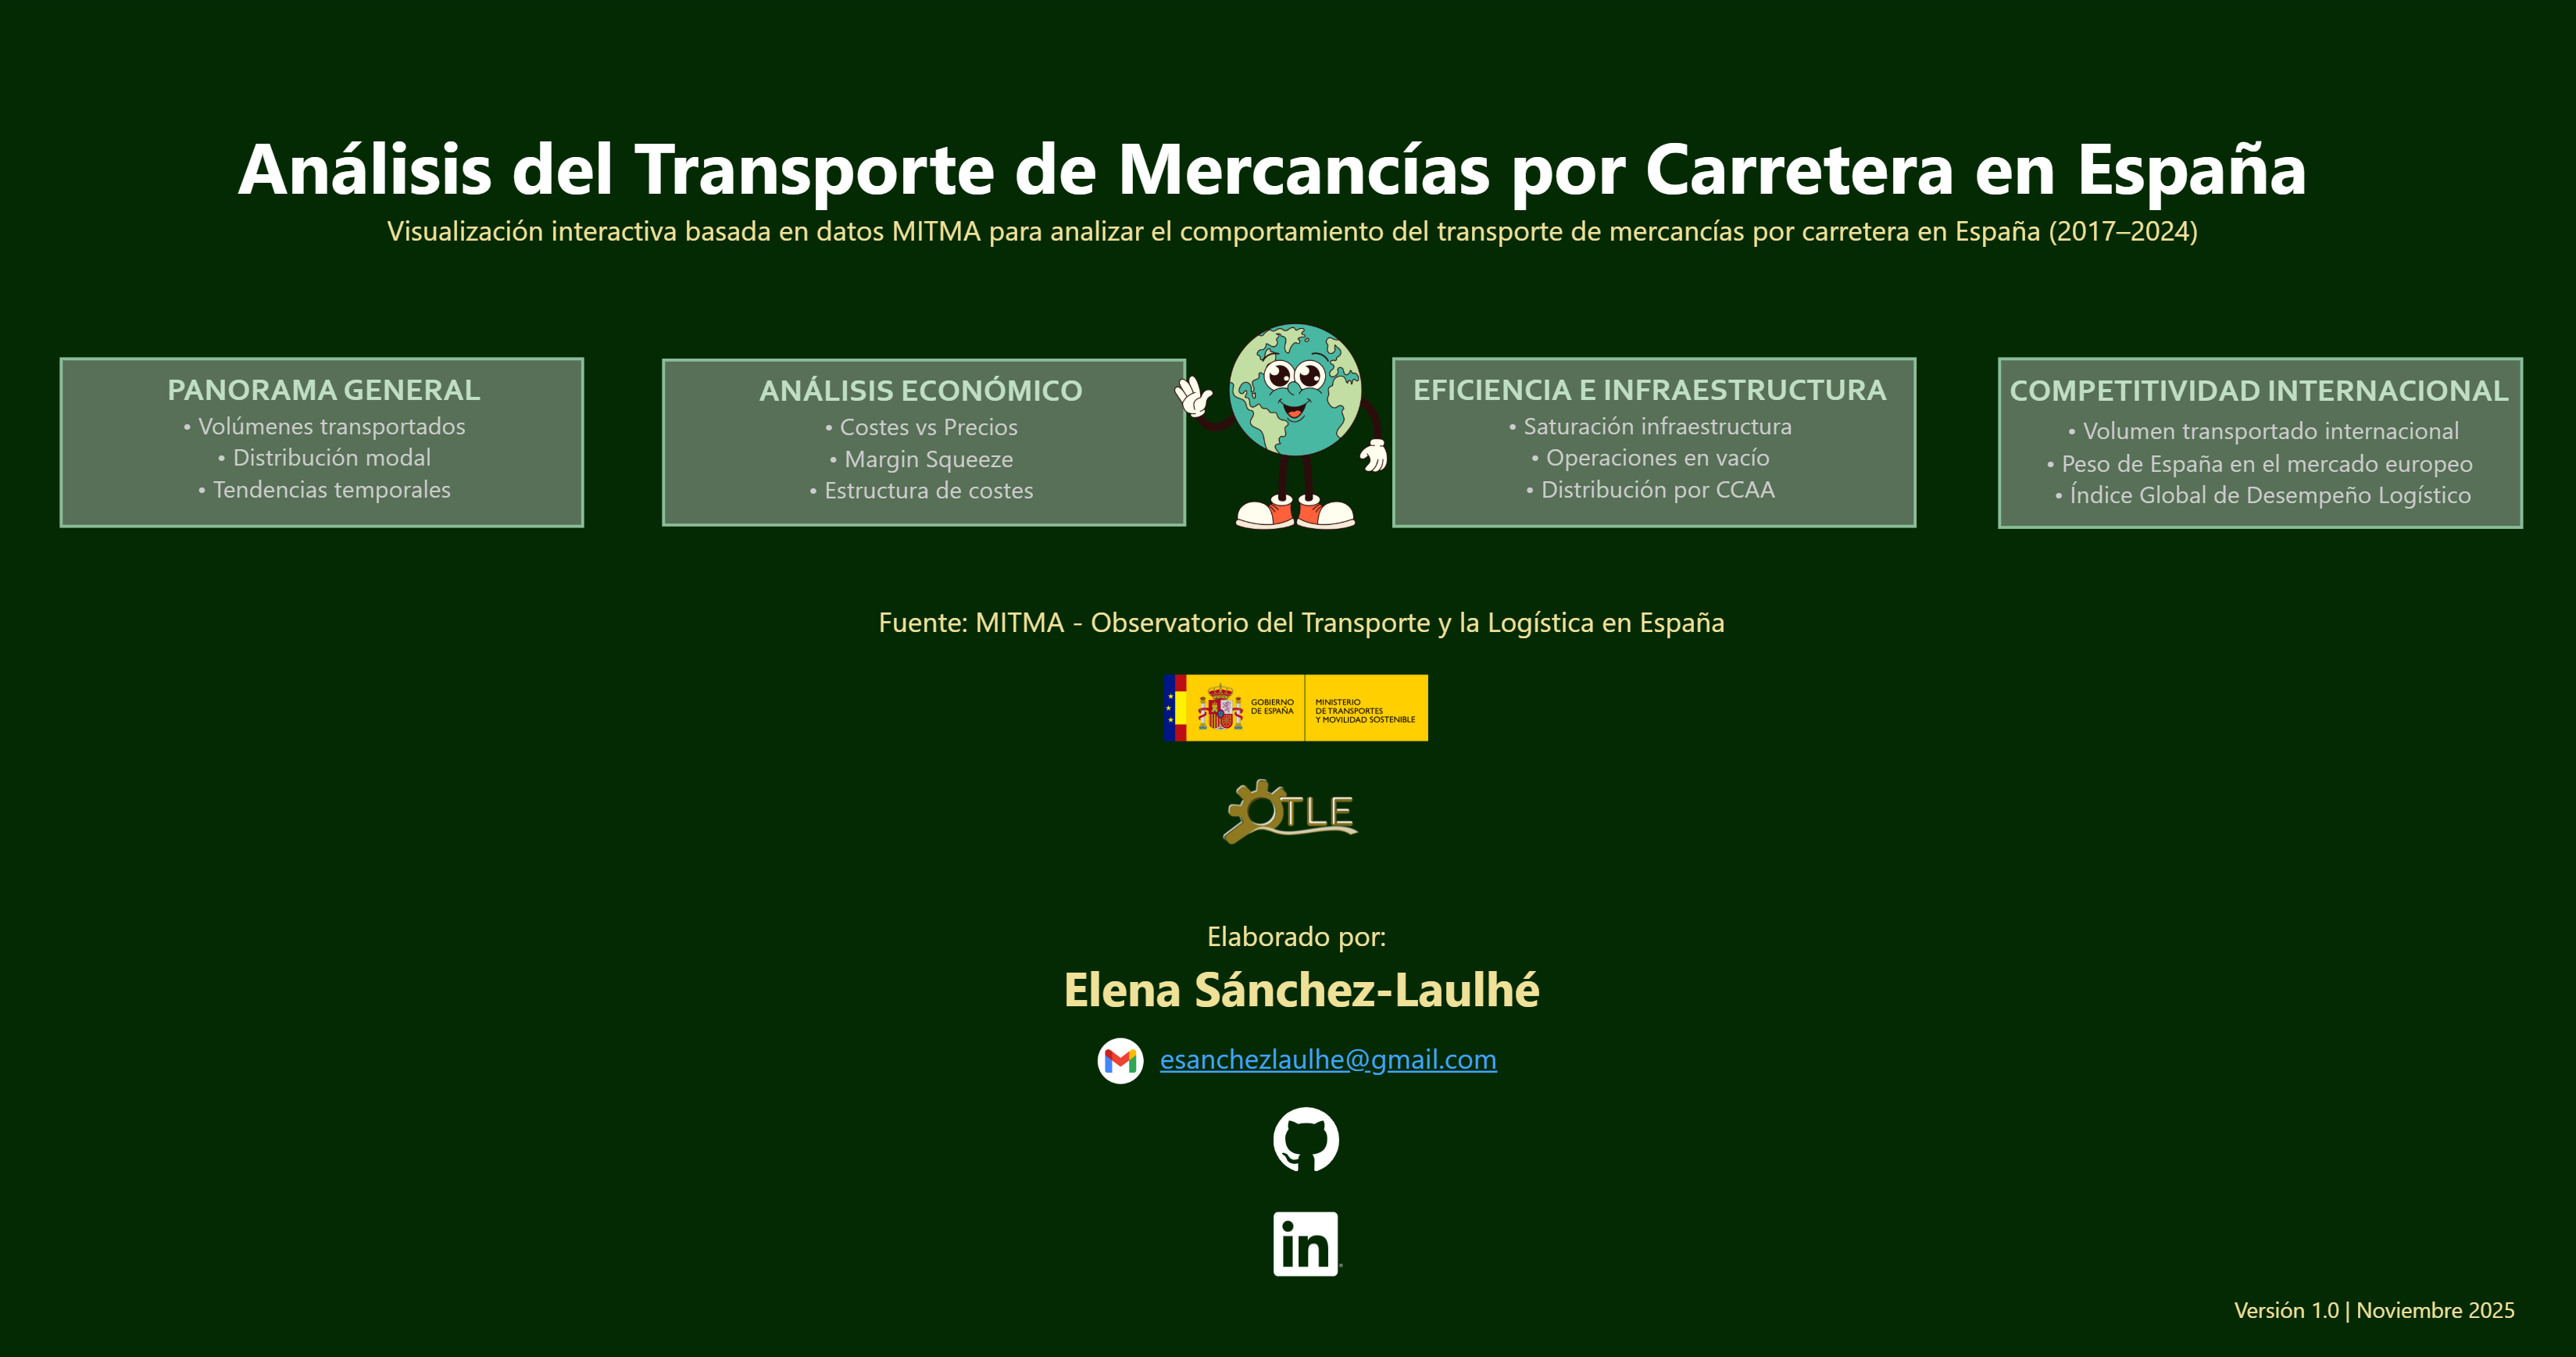

The dashboard page shown, as its layout file describes it:
{"tool":"powerbi","page":{"name":"Portada","canvas":[1747,920],"ordinal":0},"visuals":[{"type":"textbox","box":[45,245.7,353.8,115.2],"z":0,"group":"g3"},{"type":"textbox","box":[939.8,245.9,354.6,115.2],"z":0,"group":"g5"},{"type":"textbox","box":[1348.6,246.8,360.9,115],"z":0,"group":"g6"},{"type":"textbox","box":[448.1,247.2,354.5,113.6],"z":0,"group":"g4"},{"type":"image","box":[782.6,431.3,190.9,97.1],"z":0,"group":"g2"},{"type":"textbox","box":[701.9,609.3,360,87],"z":0},{"type":"image","box":[728.8,696.3,61.7,42.7],"z":0,"group":"g1"},{"type":"shape","box":[43.5,242.9,354.1,115],"z":1000,"group":"g3"},{"type":"shape","box":[943.2,242.9,354,115],"z":1000,"group":"g5"},{"type":"shape","box":[1352.5,242.9,354.4,115.8],"z":1000,"group":"g6"},{"type":"shape","box":[450.3,243.7,353.8,113.4],"z":1000,"group":"g4"},{"type":"image","box":[797.7,522.6,153.9,54.3],"z":1000,"group":"g2"},{"type":"textbox","box":[777.7,697.9,250,34.8],"z":1000,"group":"g1"},{"type":"image","box":[857.6,812.6,56.8,57.6],"z":1000},{"type":"textbox","box":[147.2,75.4,1430.8,91.3],"z":2000},{"type":"textbox","box":[259.8,138.6,1244.7,42.1],"z":3000},{"type":"textbox","box":[541.2,402.8,682.1,41.9],"z":4000},{"type":"group","id":"g1","title":"Grupo 1","box":[728.8,696.3,298.3,42.7],"z":5000},{"type":"group","id":"g2","title":"Grupo 2","box":[782.6,431.3,190.7,145.6],"z":6000},{"type":"group","id":"g3","title":"Grupo 3","box":[43.5,242.9,355.3,117.9],"z":7000},{"type":"group","id":"g4","title":"Grupo 4","box":[448.1,243.7,356.1,117.1],"z":8000},{"type":"group","id":"g5","title":"Grupo 5","box":[939.8,242.9,357.4,118.2],"z":9000},{"type":"group","id":"g6","title":"Grupo 5","box":[1348.6,242.9,360.9,119],"z":10000},{"type":"image","box":[851.9,743.5,65.8,53.5],"z":11000},{"type":"textbox","box":[1486,870.4,241.3,34.8],"z":12000},{"type":"image","box":[782.7,214.4,171.1,155.4],"z":13000}]}

Visuals, with their boxes in screenshot pixels (x1, y1, x2, y2), scaled from the page's 1747x920 canvas onto the 2576x1357 screenshot:
textbox: (66,362,588,532)
textbox: (1386,362,1909,533)
textbox: (1988,364,2521,534)
textbox: (661,365,1184,532)
image: (1154,636,1435,780)
textbox: (1035,898,1566,1027)
image: (1074,1027,1166,1090)
shape: (64,359,586,528)
shape: (1391,359,1913,528)
shape: (1994,359,2517,529)
shape: (664,359,1186,527)
image: (1176,771,1403,851)
textbox: (1147,1030,1516,1080)
image: (1264,1198,1349,1284)
textbox: (217,111,2327,246)
textbox: (383,205,2218,266)
textbox: (798,595,1804,656)
"Grupo 1" group: (1074,1027,1514,1090)
"Grupo 2" group: (1154,636,1435,851)
"Grupo 3" group: (64,359,588,532)
"Grupo 4" group: (661,359,1186,532)
"Grupo 5" group: (1386,359,1913,533)
"Grupo 5" group: (1988,359,2521,534)
image: (1256,1097,1353,1176)
textbox: (2191,1284,2547,1335)
image: (1154,316,1406,545)
